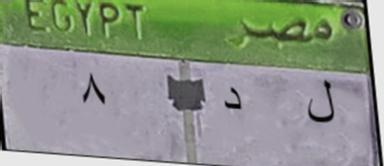8: (76, 68, 110, 114)
daal: (217, 81, 244, 117)
laam: (302, 74, 338, 130)
